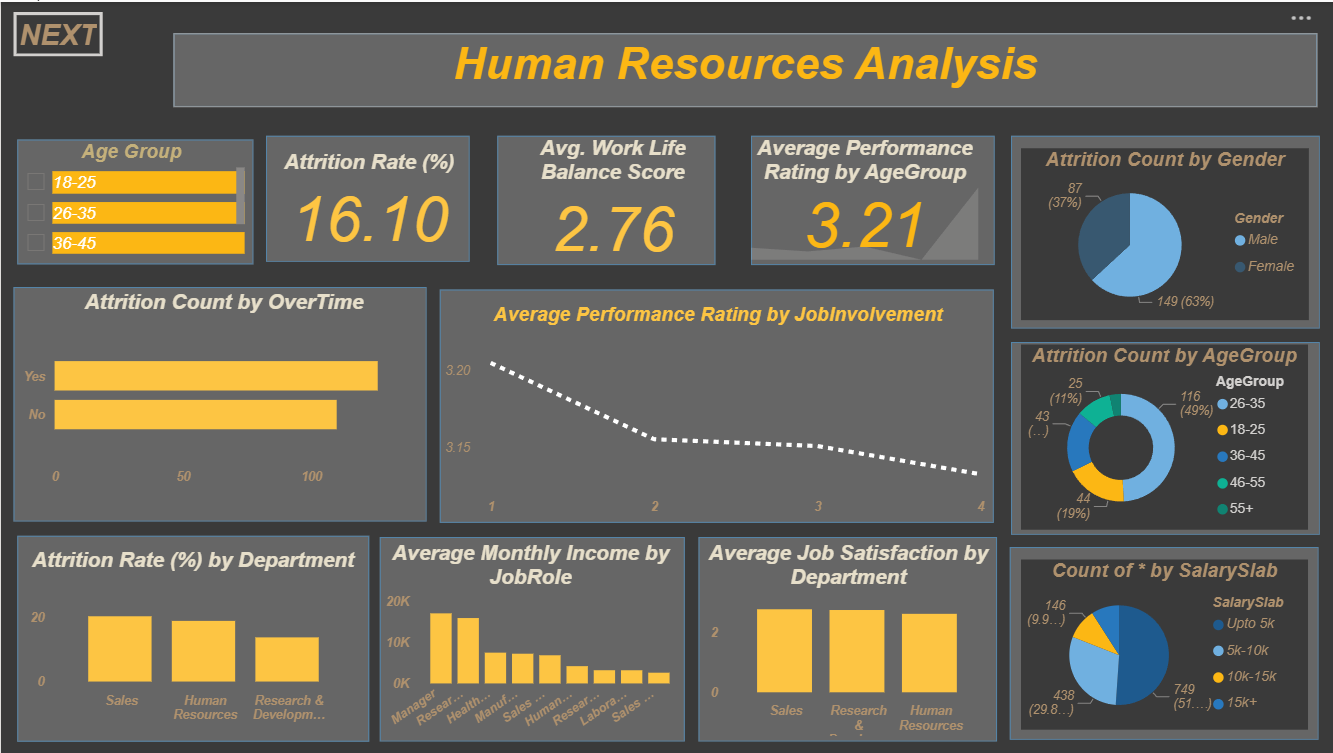

The page's visual inventory and layout, read from the dashboard file:
{"tool":"powerbi","page":{"name":"Dashboard 1","canvas":[1280,720],"ordinal":0},"visuals":[{"type":"shape","box":[165.9,30.3,1096.5,70.7],"z":0},{"type":"shape","box":[15.4,131.5,226.5,119.7],"z":0,"group":"g12"},{"type":"group","id":"g1","title":"Group 3","box":[12,273.5,396.2,225],"z":0,"group":"g7"},{"type":"shape","box":[12,273.5,396.2,225],"z":0,"group":"g1"},{"type":"shape","box":[420.9,275.9,531.2,223.8],"z":0,"group":"g2"},{"type":"shape","box":[15,511.2,337.5,197.5],"z":0},{"type":"shape","box":[668.8,512.5,286.2,196.2],"z":0,"group":"g6"},{"type":"shape","box":[967.5,523.1,296.2,185],"z":0,"group":"g3"},{"type":"textbox","box":[165.4,30,1096.6,70.7],"z":1000},{"type":"shape","box":[254.1,128.2,195.4,121],"z":1000,"group":"g8"},{"type":"shape","box":[476.1,128.4,209.2,124.1],"z":1000,"group":"g9"},{"type":"shape","box":[718.5,128.4,233.7,124.1],"z":1000,"group":"g10"},{"type":"shape","box":[968.8,128.8,296.2,185],"z":1000,"group":"g13"},{"type":"group","id":"g2","title":"Group 3","box":[420.9,275.9,531.2,223.8],"z":1000},{"type":"barChart","fields":{"Category":["hr_analysis.OverTime"],"Y":["hr_analysis.Attrition Count"]},"box":[15,276.3,396.2,196.2],"z":1000,"group":"g7"},{"type":"clusteredColumnChart","fields":{"Category":["hr_analysis.Department"],"Y":["hr_analysis.Average Job Satisfaction"]},"box":[672.6,516.3,280,192.5],"z":1000,"group":"g6"},{"type":"card","title":"Attrition Rate (%)","fields":{"Values":["hr_analysis.Attrition Rate (%)"]},"box":[261.3,141.4,183.4,101.9],"z":2000,"group":"g8"},{"type":"shape","box":[968.8,326.2,296.2,185],"z":2000,"group":"g5"},{"type":"group","id":"g3","title":"Group 3","box":[967.5,523.1,296.2,185],"z":2000,"group":"g14"},{"type":"clusteredColumnChart","fields":{"Category":["hr_analysis.Department"],"Y":["hr_analysis.Attrition Rate (%)"]},"box":[22.5,523.8,322.5,175],"z":2000},{"type":"lineChart","fields":{"Y":["hr_analysis.Average Performance Rating"],"Category":["hr_analysis.JobInvolvement"]},"box":[421.2,288.8,533.8,211.2],"z":3000},{"type":"pieChart","fields":{"Category":["hr_analysis.Gender"],"Y":["hr_analysis.Attrition Count"]},"box":[978.8,141.3,276.2,165],"z":4000,"group":"g13"},{"type":"group","id":"g4","title":"Group 4","box":[358.8,512.7,298.8,196.2],"z":4000},{"type":"group","id":"g5","title":"Group 6","box":[968.8,326.2,296.2,185],"z":5000},{"type":"group","id":"g6","title":"Group 1","box":[668.8,512.5,286.2,196.2],"z":6000},{"type":"shape","box":[363.5,512.7,292.5,196.2],"z":6500,"group":"g4"},{"type":"group","id":"g7","title":"Group 8","box":[12,273.5,399.3,225],"z":7000},{"type":"columnChart","fields":{"Category":["hr_analysis.JobRole"],"Y":["hr_analysis.Average Monthly Income"]},"box":[358.8,515.8,298.8,190],"z":7000,"group":"g4"},{"type":"group","id":"g8","title":"Group 2","box":[254.1,128.2,195.4,121],"z":8000},{"type":"group","id":"g9","title":"Group 9","box":[476.1,128.4,209.2,124.1],"z":9000},{"type":"group","id":"g10","title":"Group 10","box":[714.2,128.4,238.1,124.1],"z":10000},{"type":"group","id":"g11","title":"Group 11","box":[11.5,131.5,230.4,121],"z":11000},{"type":"donutChart","fields":{"Category":["hr_analysis.AgeGroup"],"Y":["hr_analysis.Attrition Count"]},"box":[978.8,328.7,275,177.5],"z":11000,"group":"g5"},{"type":"card","title":"Avg. Work Life Balance Score","fields":{"Values":["hr_analysis.Avg Work-Life Score"]},"box":[487.6,128.4,197.7,124.1],"z":11011,"group":"g9"},{"type":"actionButton","title":"dfdfff","box":[11.7,9.7,85.5,42.8],"z":12000},{"type":"kpi","fields":{"Indicator":["hr_analysis.Average Performance Rating"],"TrendLine":["hr_analysis.AgeGroup"]},"box":[714.2,128.4,228,124.1],"z":12000,"group":"g10"},{"type":"group","id":"g12","title":"Group 3","box":[15.4,131.5,226.5,119.7],"z":12000,"group":"g11"},{"type":"group","id":"g13","title":"Group 5","box":[968.8,128.8,296.2,185],"z":13000},{"type":"slicer","title":"Age Group","fields":{"Values":["hr_analysis.AgeGroup"]},"box":[11.5,132.7,226.5,119.7],"z":13000,"group":"g11"},{"type":"pieChart","fields":{"Category":["hr_analysis.SalarySlab"],"Y":["hr_analysis.Count of *"]},"box":[978.2,535.2,275.6,163],"z":13002,"group":"g14"},{"type":"group","id":"g14","title":"Group 12","box":[967.5,523.1,296.2,185],"z":14000}]}

Visuals, with their boxes in screenshot pixels (x1, y1, x2, y2), scaled from the page's 1280x720 canvas onto the 1333x753 screenshot:
shape: select_region(173, 32, 1315, 106)
shape: select_region(16, 138, 252, 263)
"Group 3" group: select_region(12, 286, 425, 521)
shape: select_region(12, 286, 425, 521)
shape: select_region(438, 289, 992, 523)
shape: select_region(16, 535, 367, 741)
shape: select_region(696, 536, 995, 741)
shape: select_region(1008, 547, 1316, 741)
textbox: select_region(172, 31, 1314, 105)
shape: select_region(265, 134, 468, 261)
shape: select_region(496, 134, 714, 264)
shape: select_region(748, 134, 992, 264)
shape: select_region(1009, 135, 1317, 328)
"Group 3" group: select_region(438, 289, 992, 523)
barChart - hr_analysis.OverTime x hr_analysis.Attrition Count: select_region(16, 289, 428, 494)
clusteredColumnChart - hr_analysis.Department x hr_analysis.Average Job Satisfaction: select_region(700, 540, 992, 741)
"Attrition Rate (%)" card: select_region(272, 148, 463, 254)
shape: select_region(1009, 341, 1317, 535)
"Group 3" group: select_region(1008, 547, 1316, 741)
clusteredColumnChart - hr_analysis.Department x hr_analysis.Attrition Rate (%): select_region(23, 548, 359, 731)
lineChart - hr_analysis.Average Performance Rating x hr_analysis.JobInvolvement: select_region(439, 302, 995, 523)
pieChart - hr_analysis.Gender x hr_analysis.Attrition Count: select_region(1019, 148, 1307, 320)
"Group 4" group: select_region(374, 536, 685, 741)
"Group 6" group: select_region(1009, 341, 1317, 535)
"Group 1" group: select_region(696, 536, 995, 741)
shape: select_region(379, 536, 683, 741)
"Group 8" group: select_region(12, 286, 428, 521)
columnChart - hr_analysis.JobRole x hr_analysis.Average Monthly Income: select_region(374, 539, 685, 738)
"Group 2" group: select_region(265, 134, 468, 261)
"Group 9" group: select_region(496, 134, 714, 264)
"Group 10" group: select_region(744, 134, 992, 264)
"Group 11" group: select_region(12, 138, 252, 264)
donutChart - hr_analysis.AgeGroup x hr_analysis.Attrition Count: select_region(1019, 344, 1306, 529)
"Avg. Work Life Balance Score" card: select_region(508, 134, 714, 264)
"dfdfff" actionButton: select_region(12, 10, 101, 55)
kpi - hr_analysis.Average Performance Rating x hr_analysis.AgeGroup: select_region(744, 134, 981, 264)
"Group 3" group: select_region(16, 138, 252, 263)
"Group 5" group: select_region(1009, 135, 1317, 328)
"Age Group" slicer: select_region(12, 139, 248, 264)
pieChart - hr_analysis.SalarySlab x hr_analysis.Count of *: select_region(1019, 560, 1306, 730)
"Group 12" group: select_region(1008, 547, 1316, 741)
